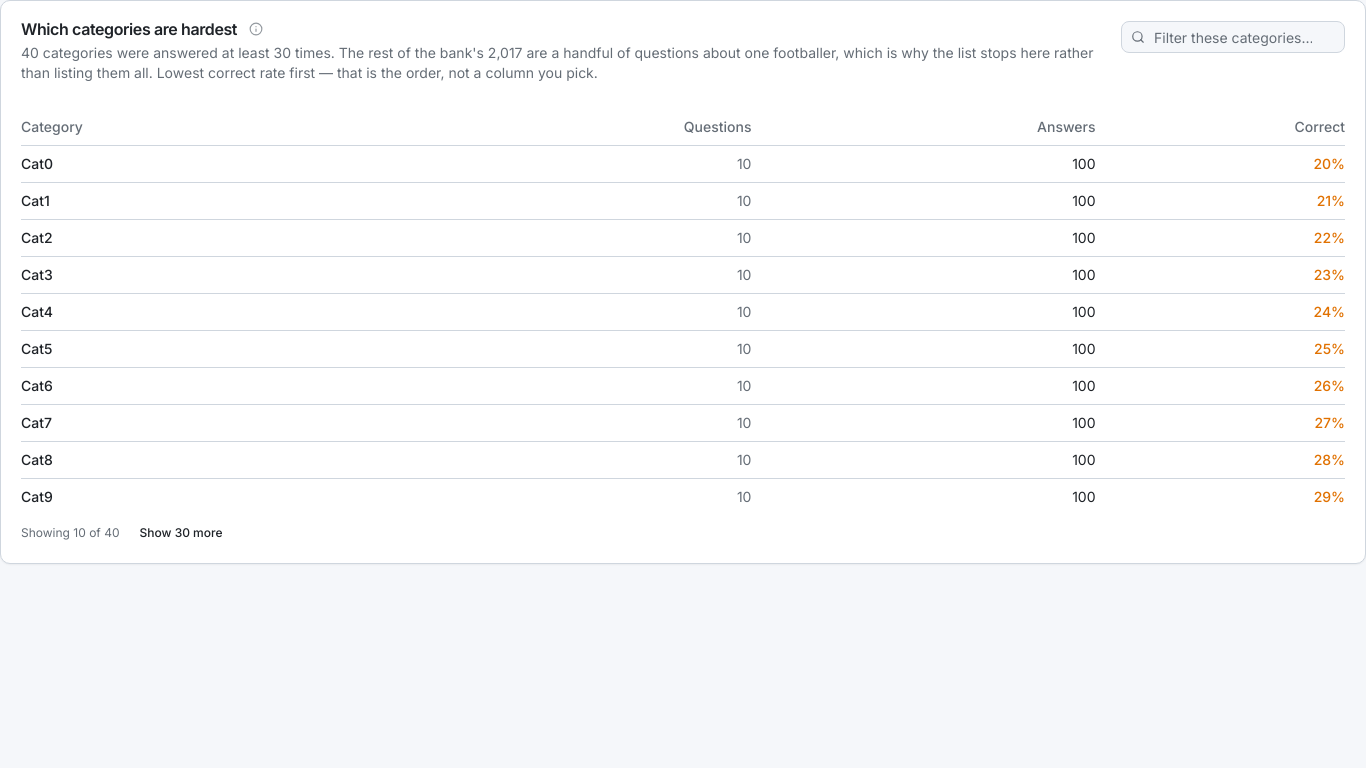
Test: categoryQuality › says which search found nothing
The width and height of the screenshot is (1366, 768).
Type "zzz" into the field named "Filter categories in this table" at (1233, 37), box [1121,21,1345,53]
Wait 400 ms
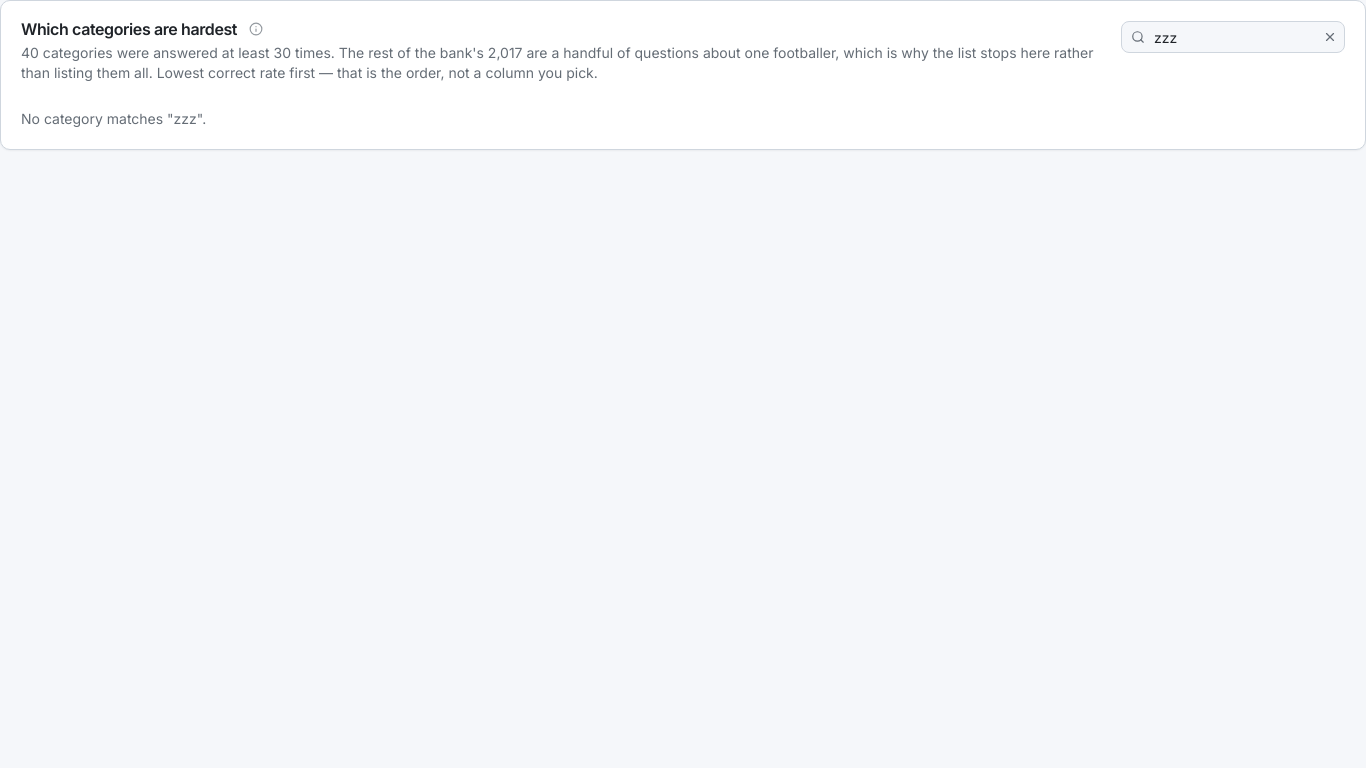
Result: the text "No category matches \"zzz\"." is shown at [21,110,206,127]
